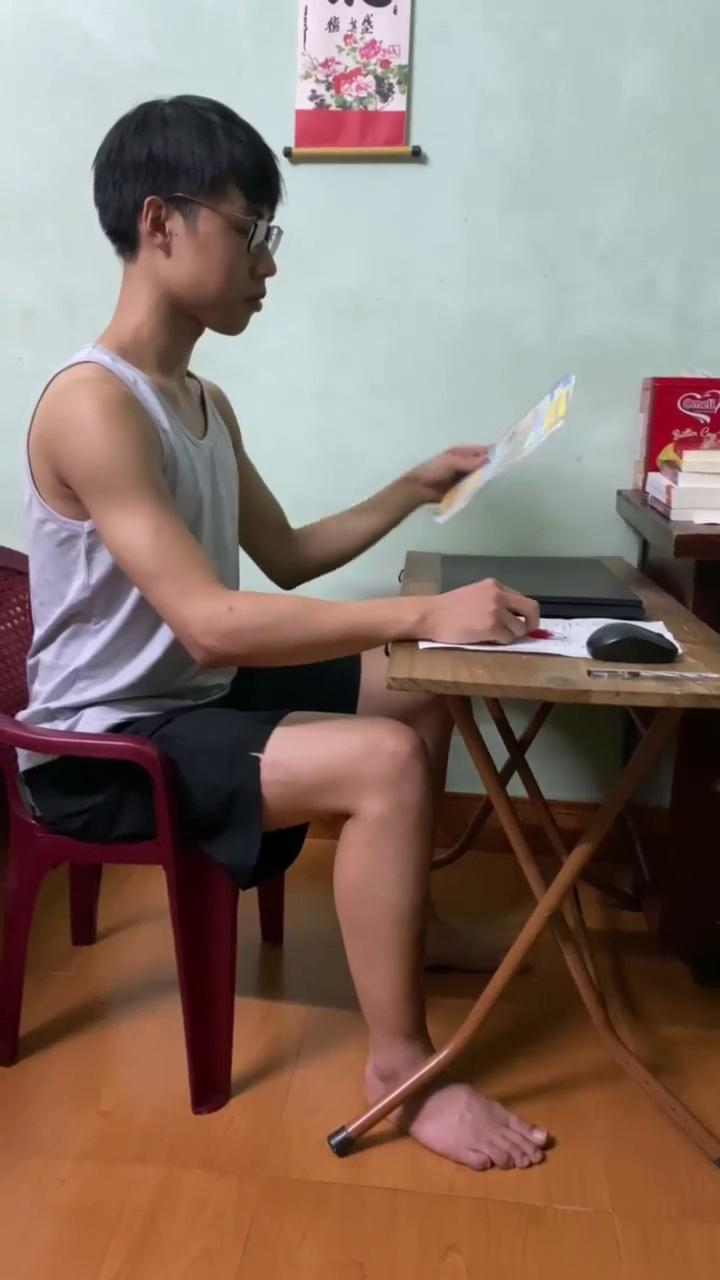GoodPosture: (28, 95, 538, 1100)
